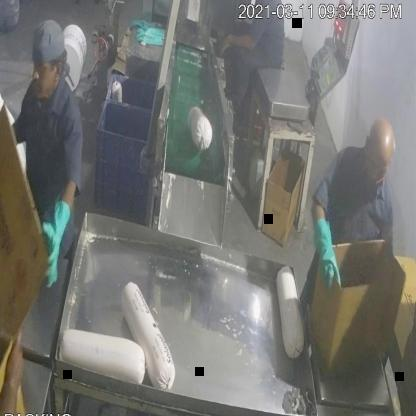no_glove: (216, 30, 258, 68)
